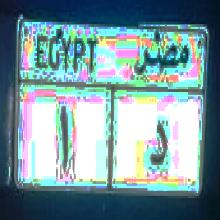1: (60, 107, 73, 168)
daal: (148, 120, 170, 168)
